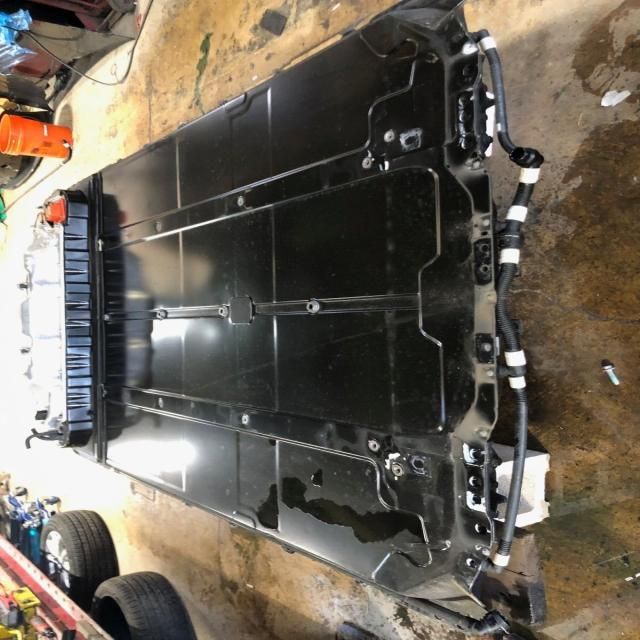Nut: (298, 297, 324, 316), (210, 304, 237, 322), (151, 306, 173, 324), (88, 312, 114, 326)
Screw: (377, 129, 405, 150), (232, 412, 258, 430), (350, 155, 376, 172), (151, 215, 170, 238), (231, 195, 253, 212), (388, 464, 408, 479), (364, 440, 382, 452), (152, 396, 167, 408)
